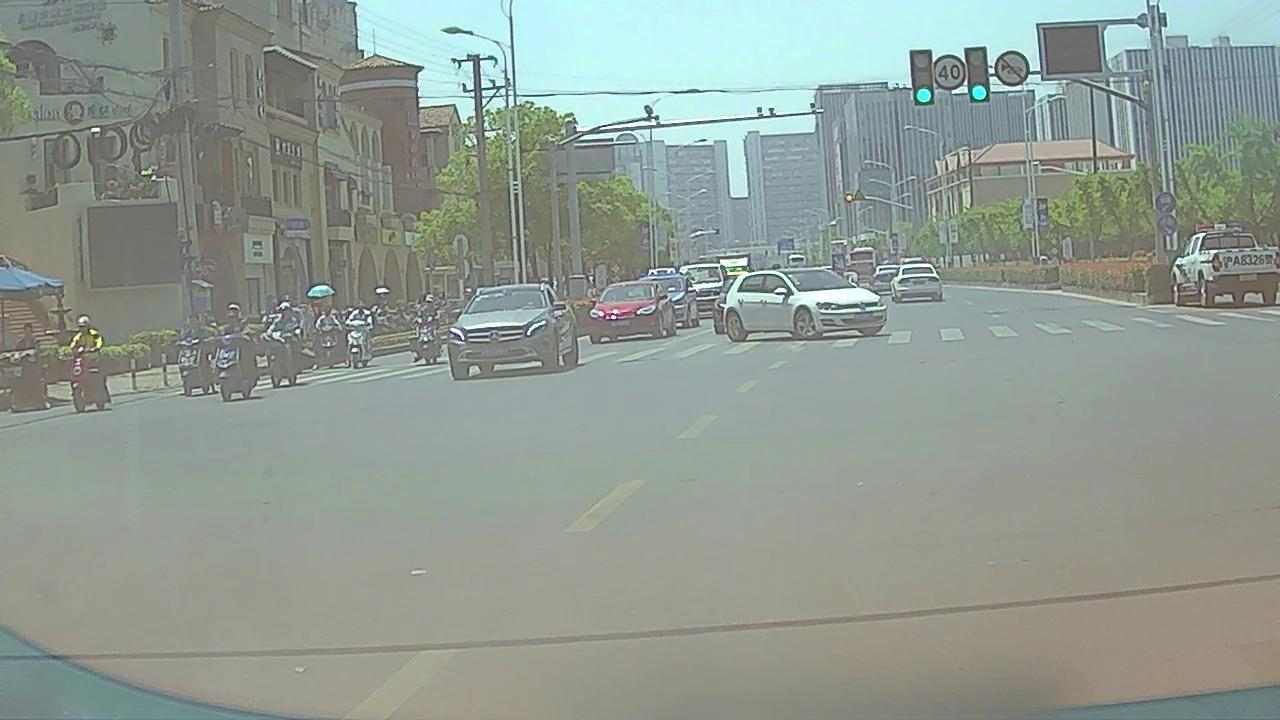traffic_light: (912, 50, 937, 107), (967, 48, 989, 103)
